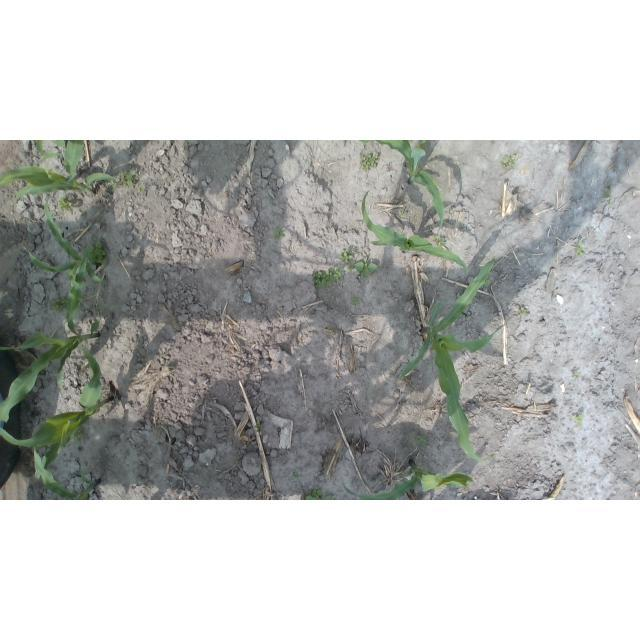Maize: (402, 259, 505, 464), (0, 339, 112, 482), (0, 277, 100, 423), (23, 196, 106, 325), (361, 190, 469, 274), (0, 140, 120, 209), (357, 141, 445, 230), (341, 460, 474, 500), (32, 448, 102, 500), (34, 140, 66, 161)
Weeds: (314, 266, 344, 289), (86, 242, 109, 267), (355, 257, 378, 279), (360, 152, 380, 172), (47, 297, 69, 313), (306, 488, 335, 500), (119, 170, 137, 187), (340, 249, 356, 265), (58, 196, 73, 213), (73, 428, 88, 445), (500, 155, 518, 169), (409, 436, 427, 449), (575, 242, 588, 258), (572, 414, 585, 429), (274, 228, 286, 241), (433, 235, 446, 247), (254, 420, 264, 432), (604, 188, 613, 199), (483, 279, 494, 288), (109, 180, 118, 188), (292, 472, 301, 480), (420, 140, 428, 148), (352, 298, 361, 305), (520, 308, 528, 315), (348, 265, 355, 272), (572, 372, 580, 378), (139, 184, 145, 192), (398, 211, 404, 218)
